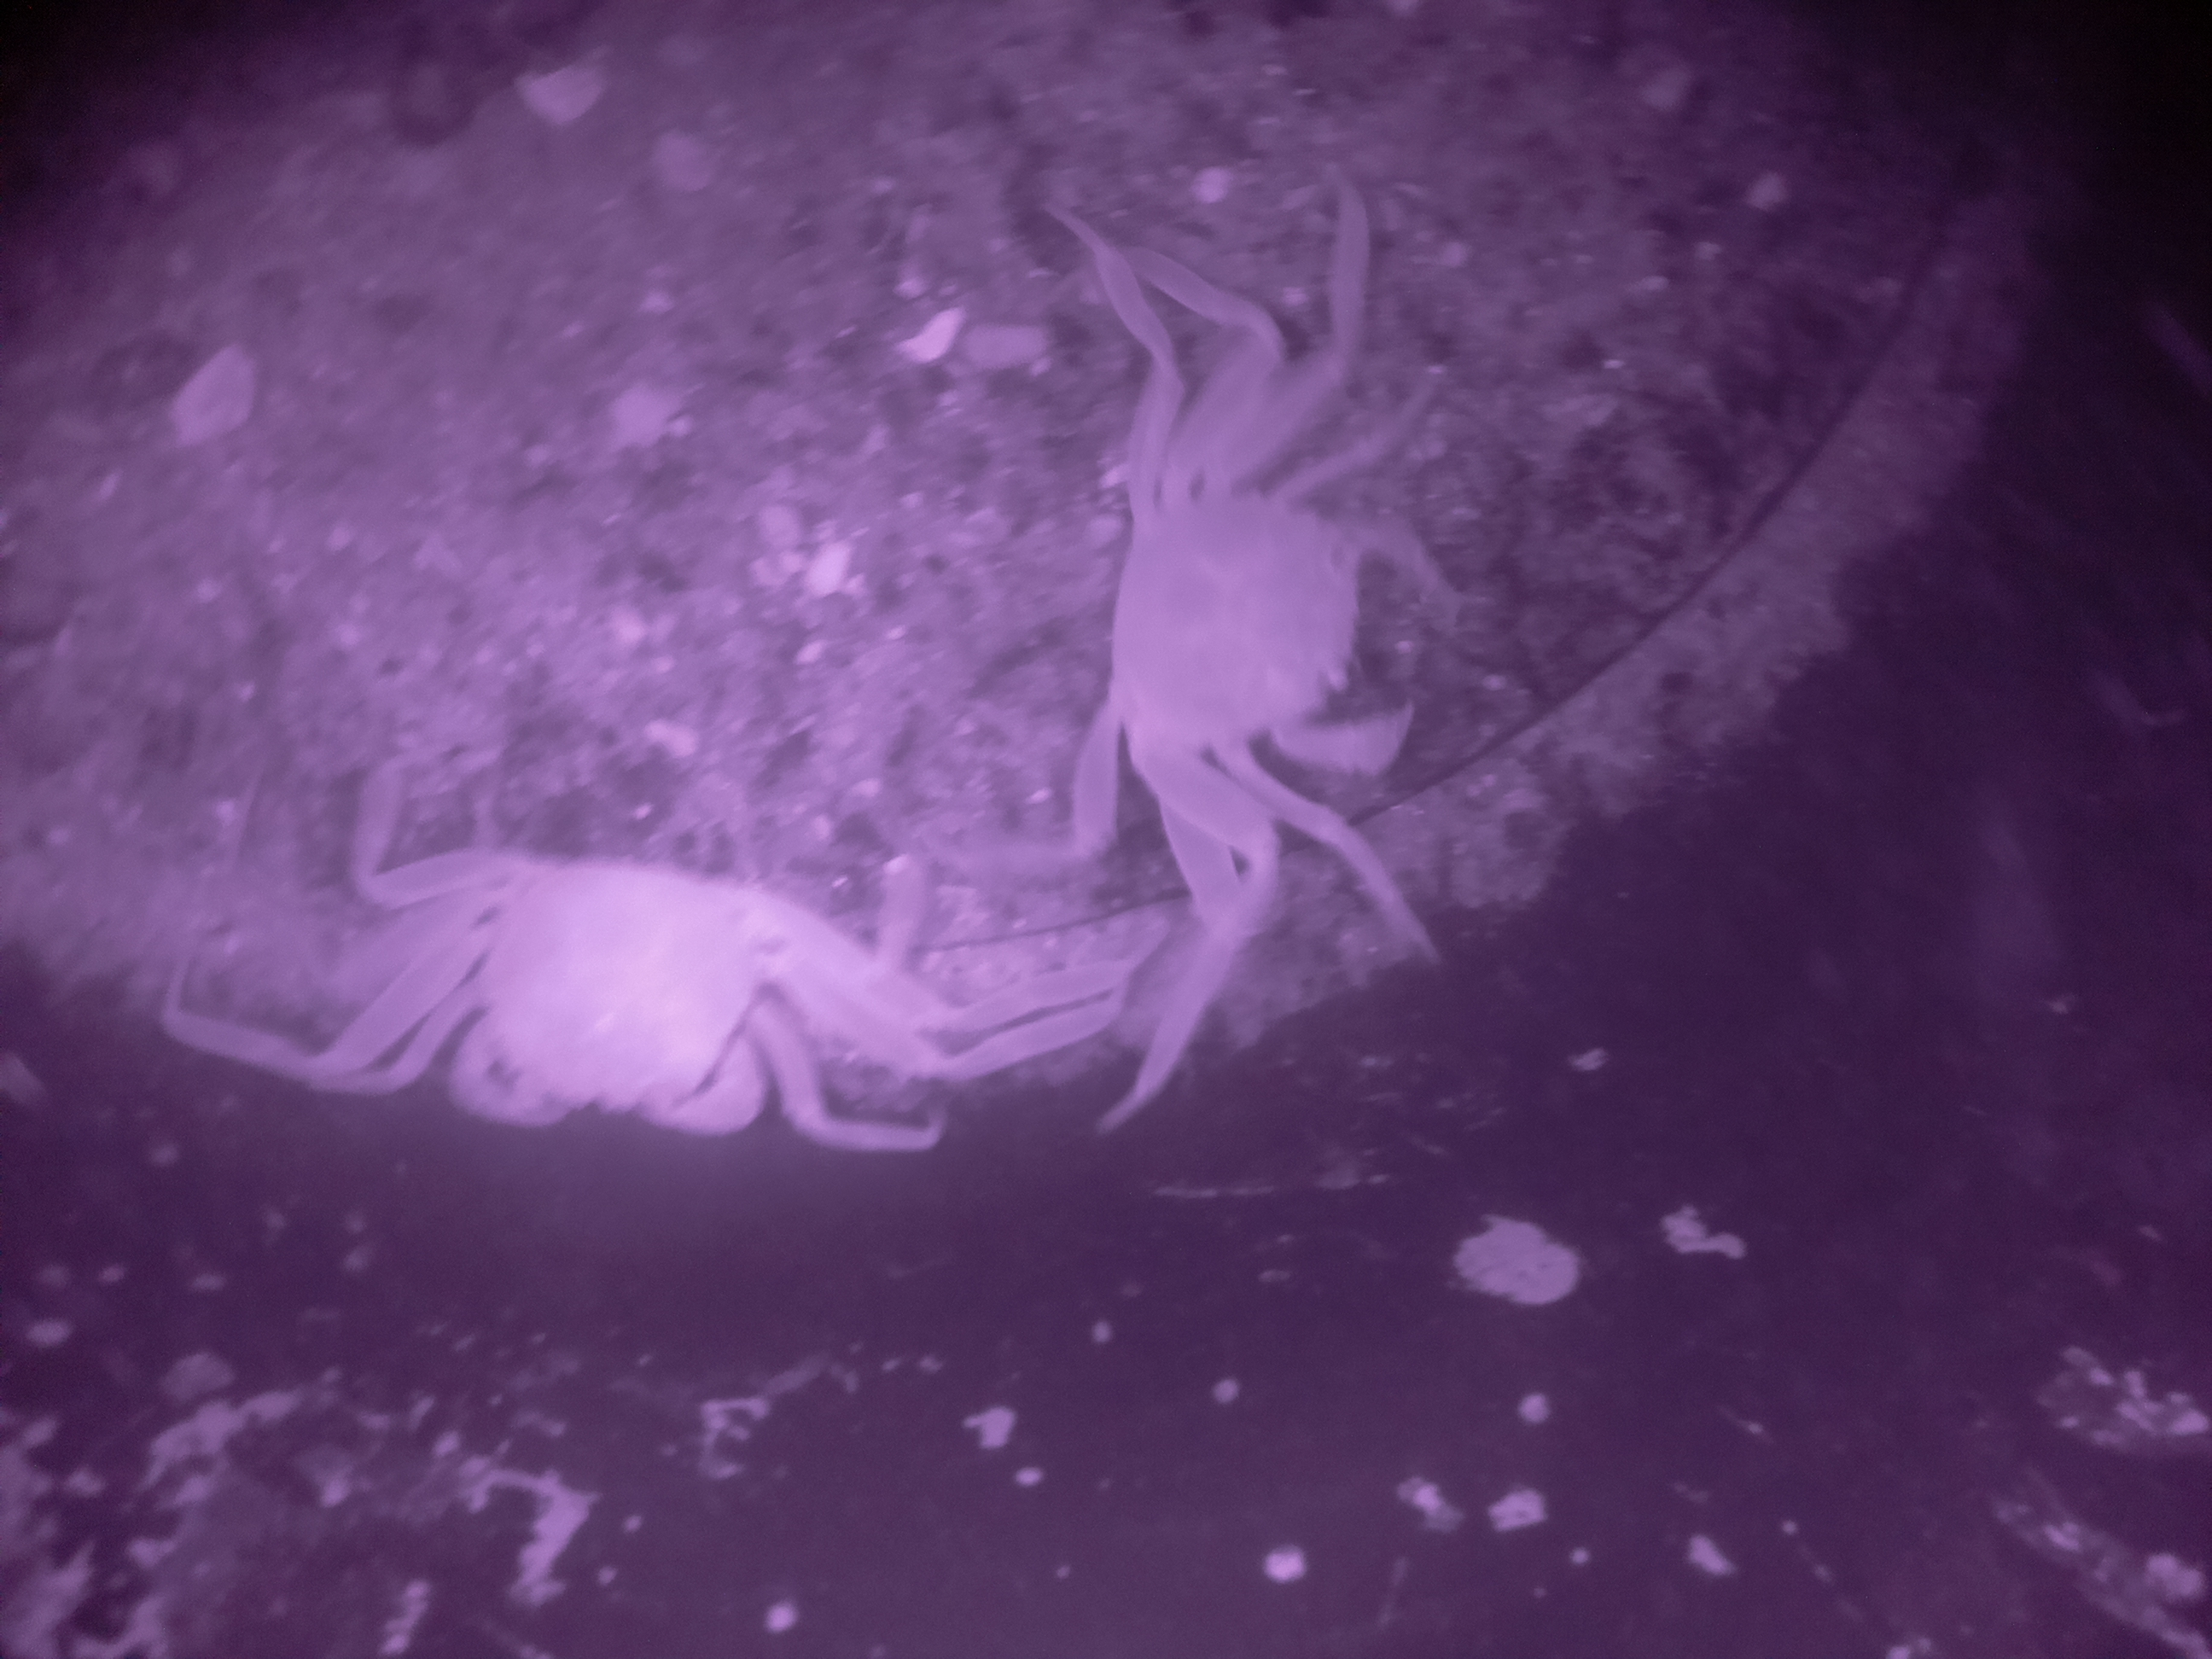Crab: (354, 732, 848, 1209), (1024, 408, 1510, 890)
